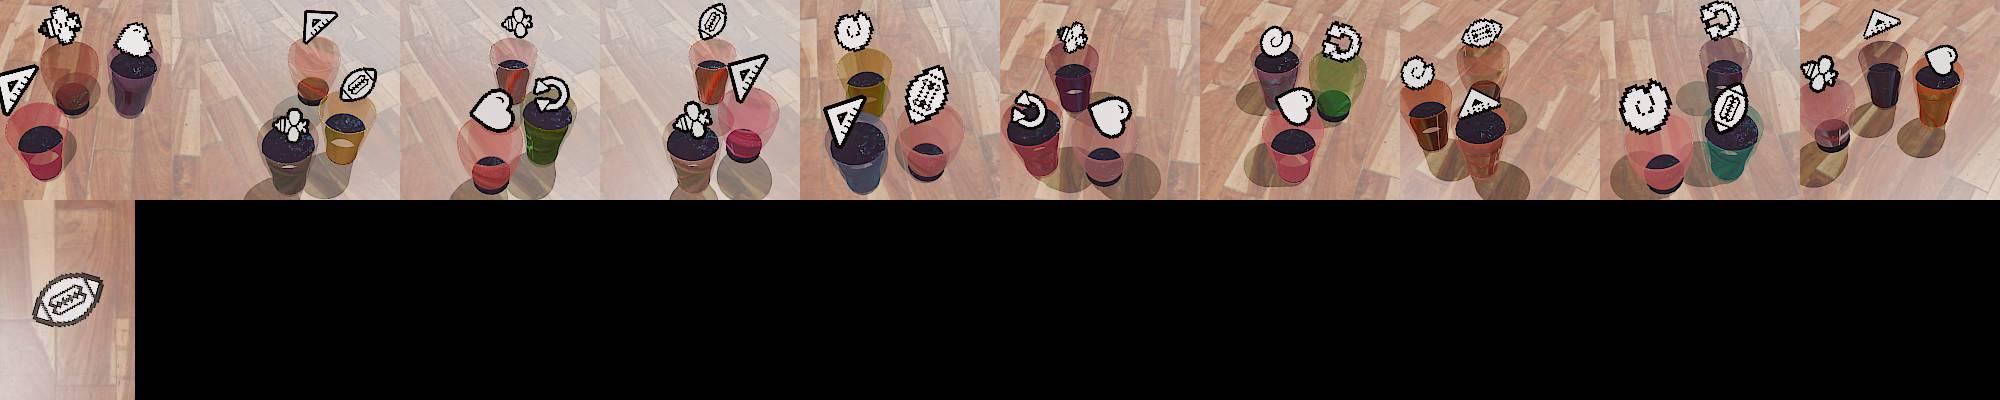icon: (31, 271, 105, 327), (1619, 78, 1675, 135), (903, 65, 949, 124), (823, 93, 867, 150), (469, 88, 519, 134), (726, 52, 768, 104), (1087, 93, 1133, 139), (0, 65, 40, 116), (1457, 83, 1503, 124), (37, 5, 83, 46), (1710, 83, 1747, 131), (1321, 19, 1362, 62), (673, 97, 716, 138), (1274, 85, 1318, 125), (834, 9, 874, 52), (1699, 0, 1740, 41), (272, 107, 310, 148), (531, 75, 570, 113), (114, 22, 154, 59), (1801, 55, 1839, 93), (339, 66, 378, 102), (1462, 18, 1504, 50), (302, 9, 338, 46), (1011, 92, 1047, 129), (1259, 23, 1296, 57), (1922, 45, 1958, 79), (1401, 55, 1435, 90), (696, 3, 728, 41), (1862, 9, 1902, 39), (1057, 19, 1089, 55), (501, 6, 534, 38)
